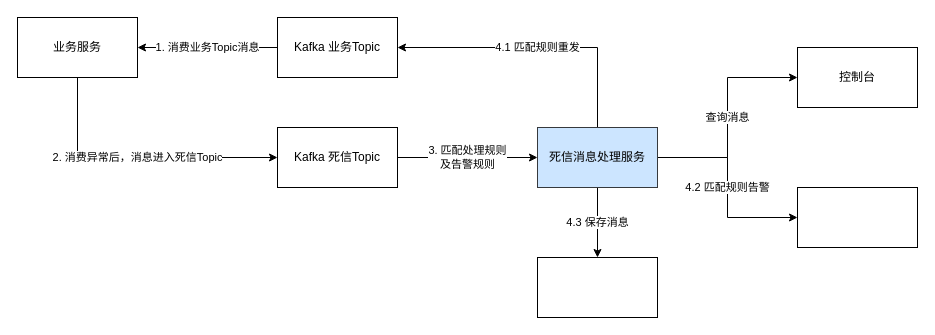
Some shapes in this 935 by 335 pixel diagram are drawn without their labels. The centre of each missing label's shape, as x and y in pixels:
数据库: point (597, 287)
钉钉: point (857, 217)
